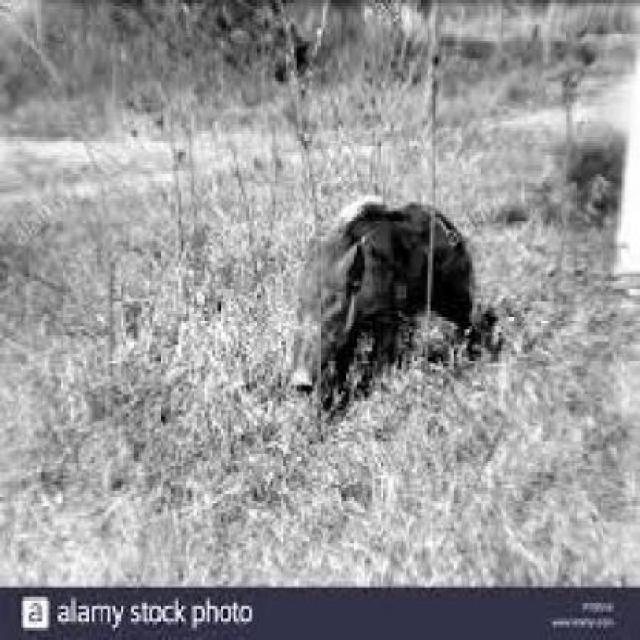wildboar: (286, 190, 477, 408)
